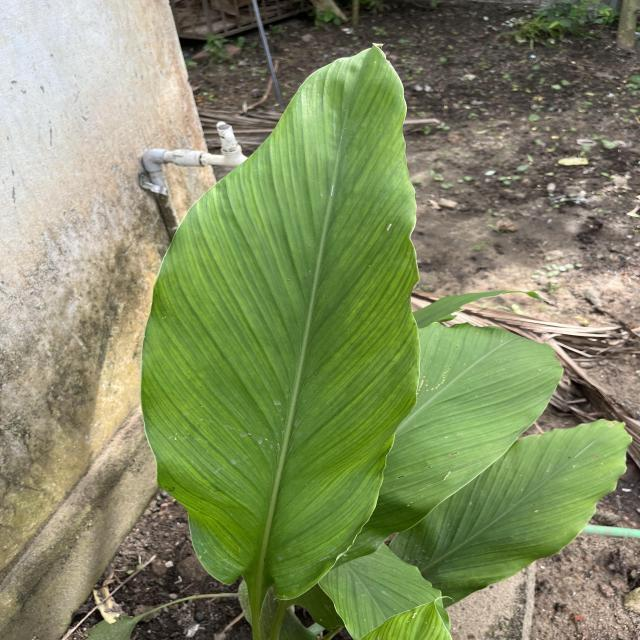Curcuma longa: (136, 35, 426, 609)
